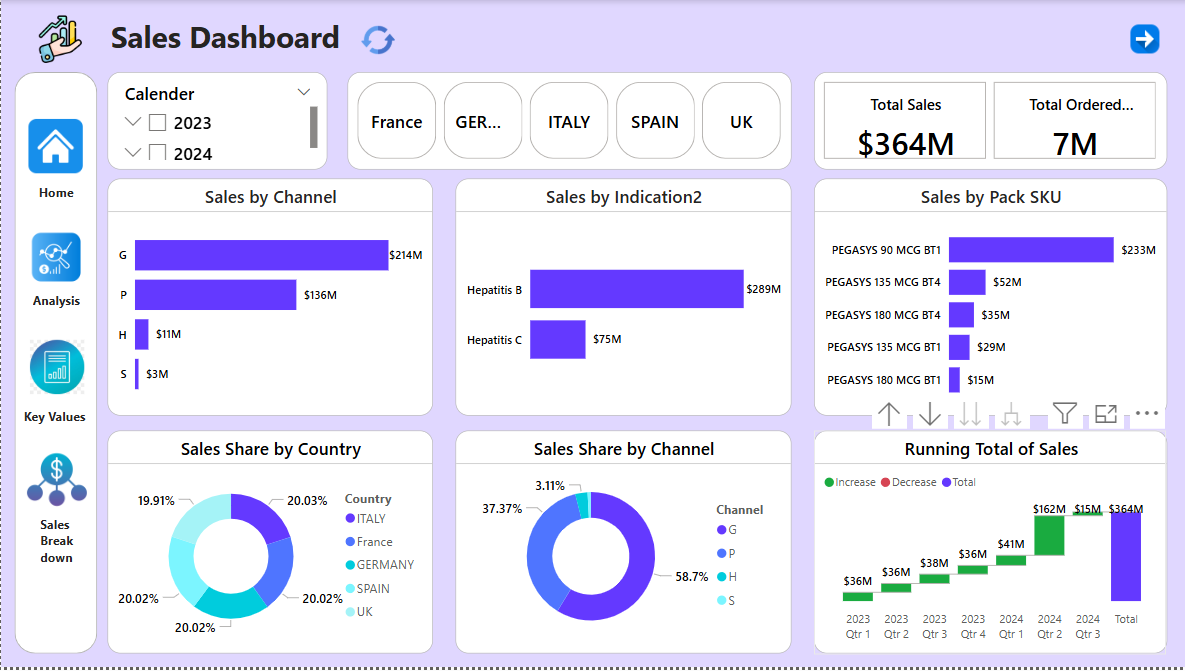

The page's visual inventory and layout, read from the dashboard file:
{"tool":"powerbi","page":{"name":"Home","canvas":[1280,720],"ordinal":0},"visuals":[{"type":"shape","box":[14.4,77.8,89.3,627.8],"z":0},{"type":"clusteredBarChart","title":" Sales by Channel","fields":{"Category":["channel.Channel"],"Y":["Calculations.Total Sales"]},"box":[115.2,193,351.4,256.3],"z":1000},{"type":"cardVisual","fields":{"Data":["Calculations.Total Sales","Calculations.Total Quantity"]},"box":[877,77.8,381.6,105.1],"z":2000},{"type":"clusteredBarChart","title":"Sales by Indication2","fields":{"Category":["Indication2.Indication2"],"Y":["Calculations.Total Sales"]},"box":[491,193,362.9,256.3],"z":3000},{"type":"clusteredBarChart","title":"Sales by Pack SKU","fields":{"Y":["Calculations.Total Sales"],"Category":["Product.Pack SKU"]},"box":[877,193,381.6,256.3],"z":4000},{"type":"advancedSlicerVisual","fields":{"Values":["country.Country"]},"box":[374.4,77.8,479.5,105.1],"z":5000},{"type":"donutChart","title":"Sales Share by Country","fields":{"Category":["country.Country"],"Y":["Calculations.Total Sales"]},"box":[115.2,465.1,351.4,240.5],"z":6000},{"type":"donutChart","title":"Sales Share by Channel","fields":{"Y":["Calculations.Total Sales"],"Category":["channel.Channel"]},"box":[491,465.1,362.9,240.5],"z":7000},{"type":"image","box":[24.5,11.5,79.2,61.9],"z":8000},{"type":"waterfallChart","title":"Running Total of Sales","fields":{"Category":["Calender2.Date.Variation.Date Hierarchy.Year","Calender2.Date.Variation.Date Hierarchy.Quarter"],"Y":["Calculations.Total Sales"]},"box":[877,465.1,381.6,240.5],"z":9000},{"type":"image","box":[1211,21.6,47.5,41.8],"z":10000},{"type":"image","box":[384.5,17.3,46.1,50.4],"z":11000},{"type":"image","box":[24.5,243.4,70.6,69.1],"z":12000},{"type":"image","box":[24.5,123.8,69.1,69.1],"z":13000},{"type":"textbox","box":[36,193,63.4,31.7],"z":14000},{"type":"textbox","box":[28.8,309.6,70.6,31.7],"z":15000},{"type":"image","box":[25.9,360,69.1,73.4],"z":16000},{"type":"textbox","box":[20.2,433.4,93.6,31.7],"z":17000},{"type":"image","box":[23,476.6,74.9,83.5],"z":18000},{"type":"textbox","box":[113.8,11.5,270.7,60.5],"z":19000},{"type":"textbox","box":[37.4,550.1,60.5,70.6],"z":20000},{"type":"slicer","fields":{"Values":["Calender2.Date.Variation.Date Hierarchy.Year","Calender2.Date.Variation.Date Hierarchy.Quarter","Calender2.Date.Variation.Date Hierarchy.Month","Calender2.Date.Variation.Date Hierarchy.Day"]},"box":[115.2,77.8,237.6,105.1],"z":21000}]}

Visuals, with their boxes in screenshot pixels (x1, y1, x2, y2), scaled from the page's 1280x720 canvas onto the 1185x671 screenshot:
shape: x1=13 y1=73 x2=96 y2=658
" Sales by Channel" clusteredBarChart: x1=107 y1=180 x2=432 y2=419
cardVisual - Calculations.Total Sales x Calculations.Total Quantity: x1=812 y1=73 x2=1165 y2=170
"Sales by Indication2" clusteredBarChart: x1=455 y1=180 x2=791 y2=419
"Sales by Pack SKU" clusteredBarChart: x1=812 y1=180 x2=1165 y2=419
advancedSlicerVisual - country.Country: x1=347 y1=73 x2=791 y2=170
"Sales Share by Country" donutChart: x1=107 y1=433 x2=432 y2=658
"Sales Share by Channel" donutChart: x1=455 y1=433 x2=791 y2=658
image: x1=23 y1=11 x2=96 y2=68
"Running Total of Sales" waterfallChart: x1=812 y1=433 x2=1165 y2=658
image: x1=1121 y1=20 x2=1165 y2=59
image: x1=356 y1=16 x2=399 y2=63
image: x1=23 y1=227 x2=88 y2=291
image: x1=23 y1=115 x2=87 y2=180
textbox: x1=33 y1=180 x2=92 y2=209
textbox: x1=27 y1=289 x2=92 y2=318
image: x1=24 y1=336 x2=88 y2=404
textbox: x1=19 y1=404 x2=105 y2=433
image: x1=21 y1=444 x2=91 y2=522
textbox: x1=105 y1=11 x2=356 y2=67
textbox: x1=35 y1=513 x2=91 y2=578
slicer - Calender2.Date.Variation.Date Hierarchy.Year x Calender2.Date.Variation.Date Hierarchy.Quarter: x1=107 y1=73 x2=327 y2=170
